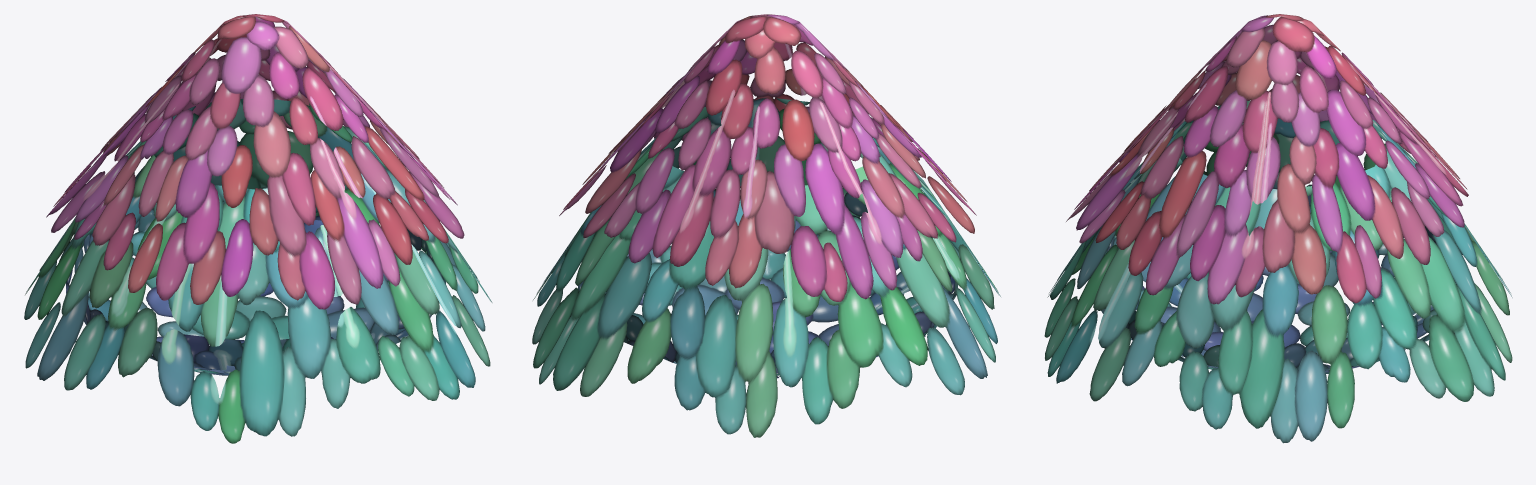
File: bushes_05.fbx
The picture shows the model from 3 angles, left to right: view 1: azimuth 30°, elevation 25°; view 2: azimuth 150°, elevation 25°; view 3: azimuth 270°, elevation 25°; orthographic projection.
Visible parts, largest first — view 1: bushes_05; view 2: bushes_05; view 3: bushes_05.
Boxes of the visible parts, x1=… form: bushes_05: x1=24, y1=14, x2=492, y2=443; bushes_05: x1=532, y1=14, x2=1000, y2=437; bushes_05: x1=1044, y1=14, x2=1512, y2=443.
Size of the model in its own units: 216 by 148 by 192.
